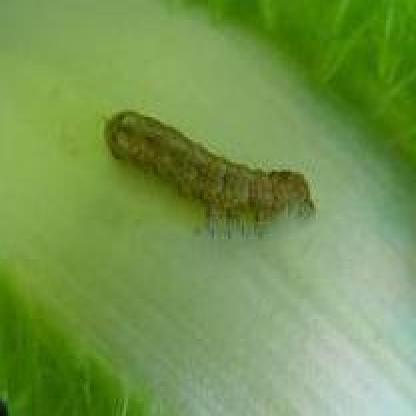armyworm: (104, 105, 321, 242)
